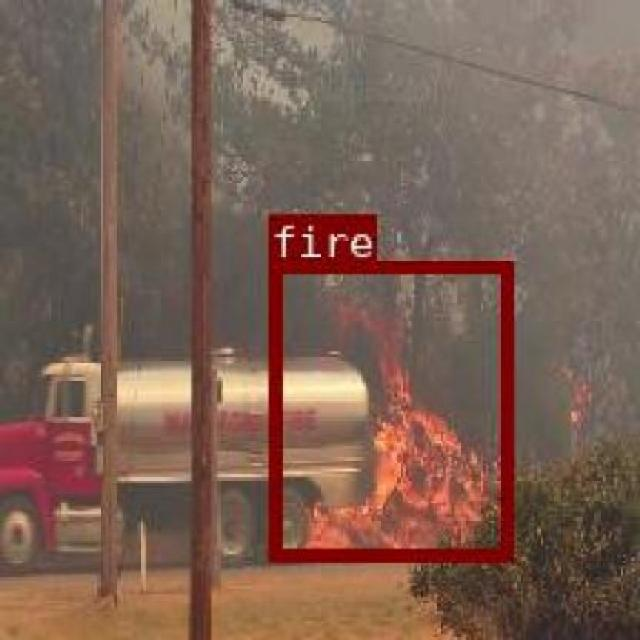Fire: (266, 258, 511, 557)
